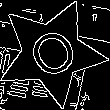O_SE: (20, 20, 83, 86)
